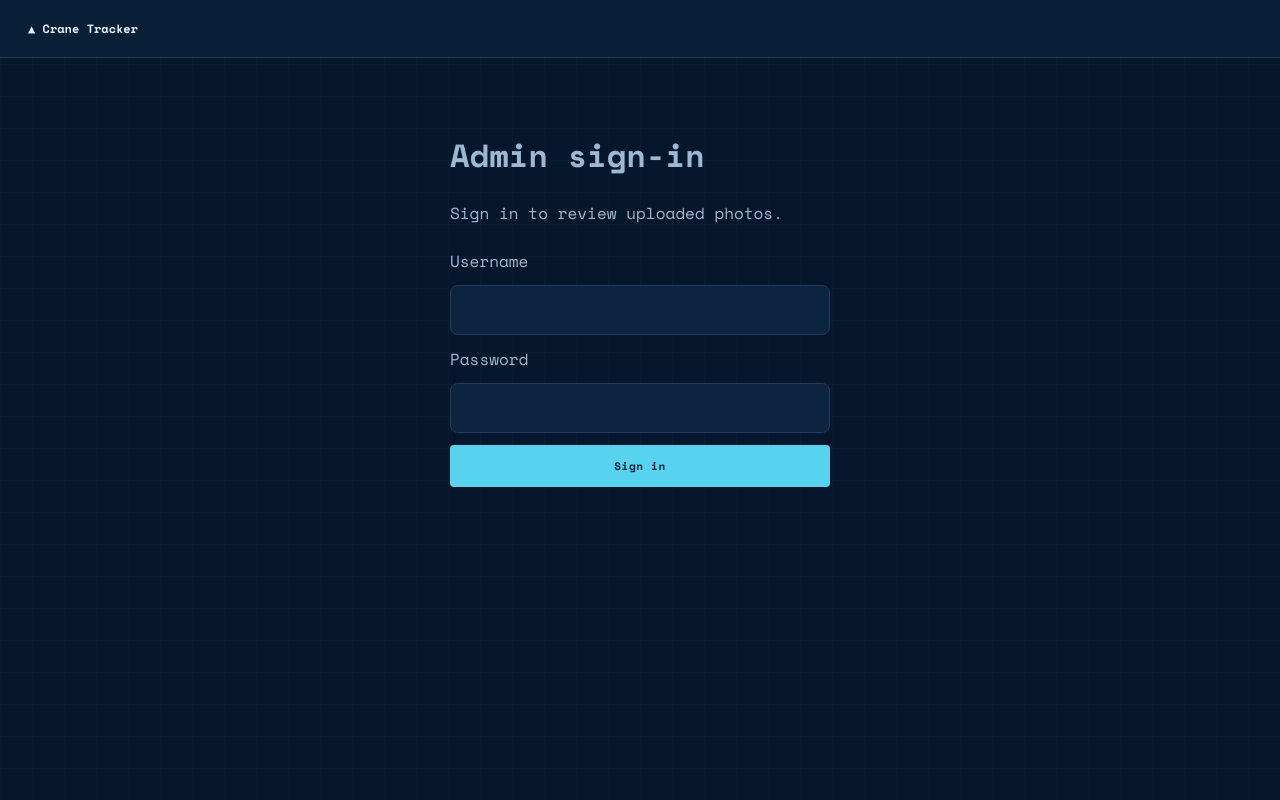
Test: AdminPhotosPage › keeps the card and presents the API error when deletion fails
Type "admin" into the field labelled "Username" at (640, 310), box [450,285,830,335]
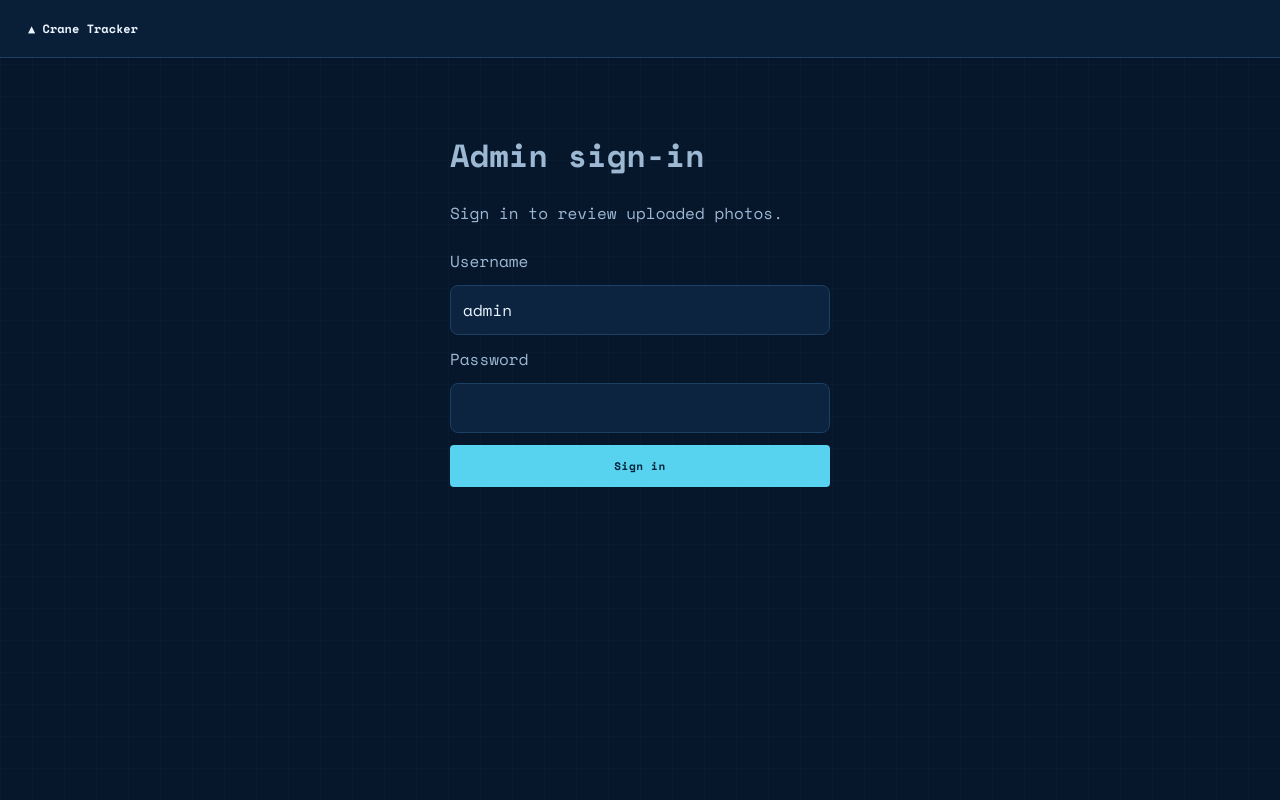
Type "secret" into the password field labelled "Password" at (640, 408), box [450,383,830,433]
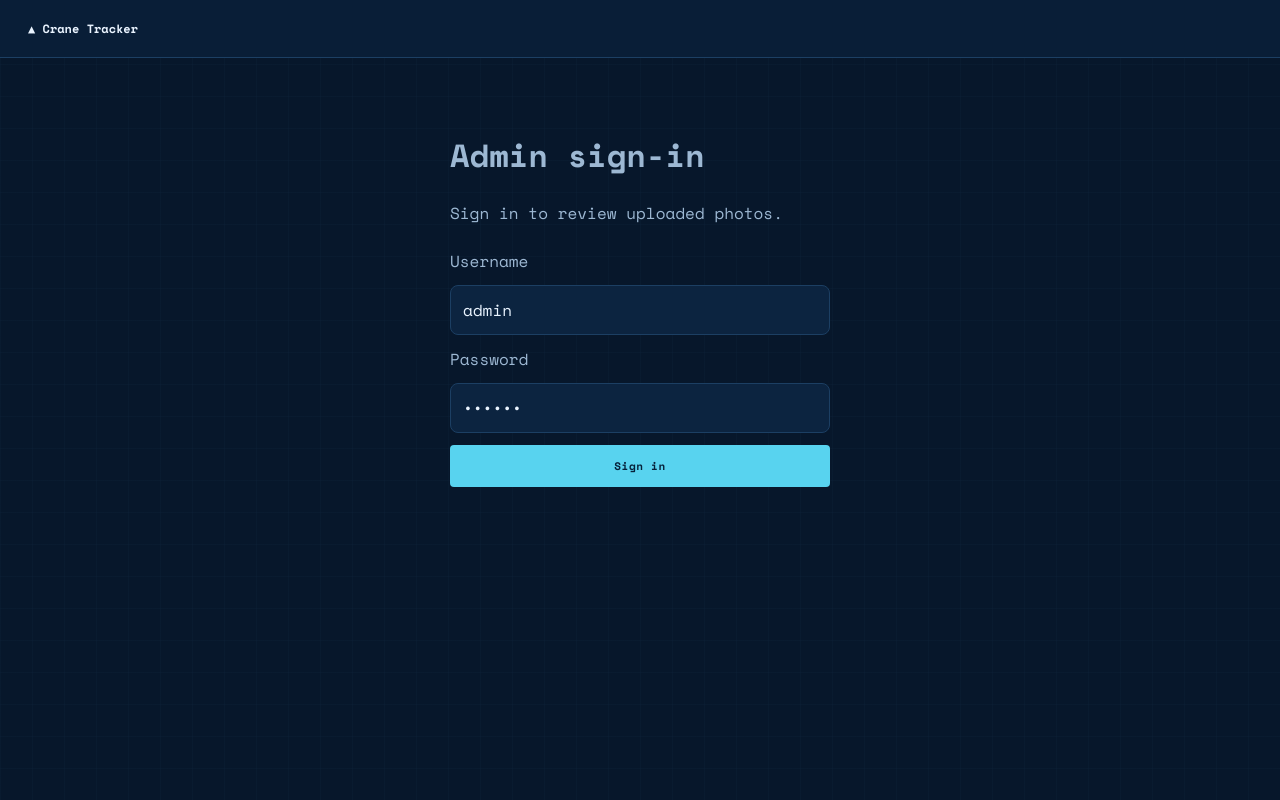
Click the button "Sign in" at (640, 466), box [450,445,830,487]
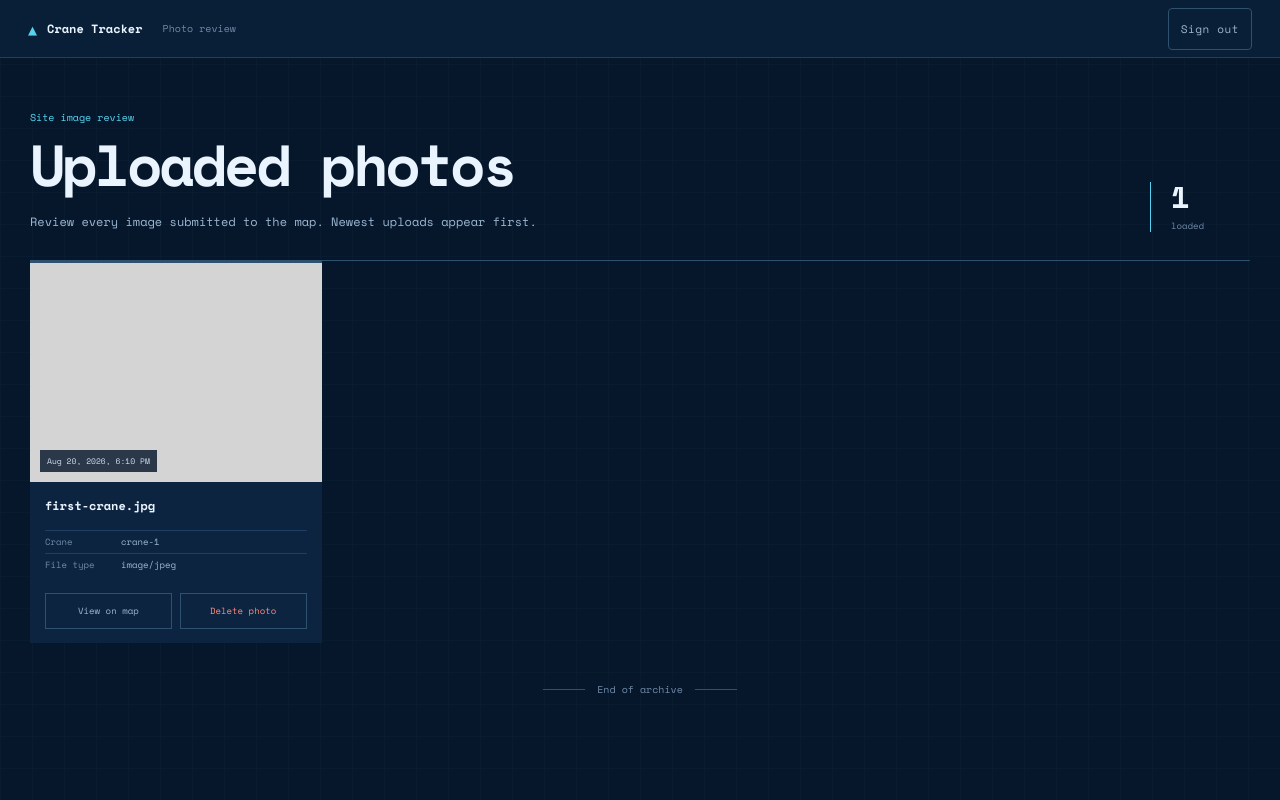
Check: the button "Sign out" is shown, box [1168,8,1252,50]
Check: the heading "first-crane.jpg" is shown, box [45,497,155,514]
Click the button "Delete photo" at (243, 611), box [180,593,307,629]
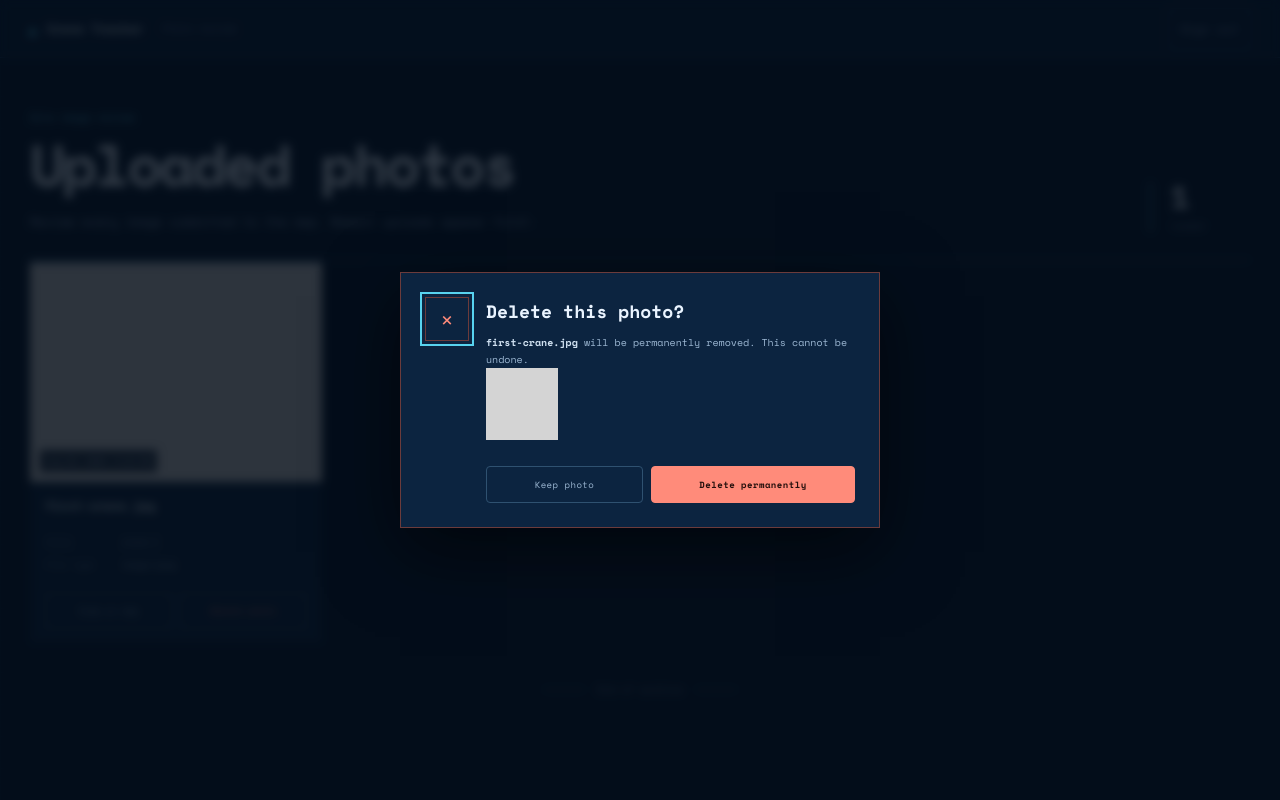
Click the button "Delete permanently" at (753, 484), box [651,466,855,503]
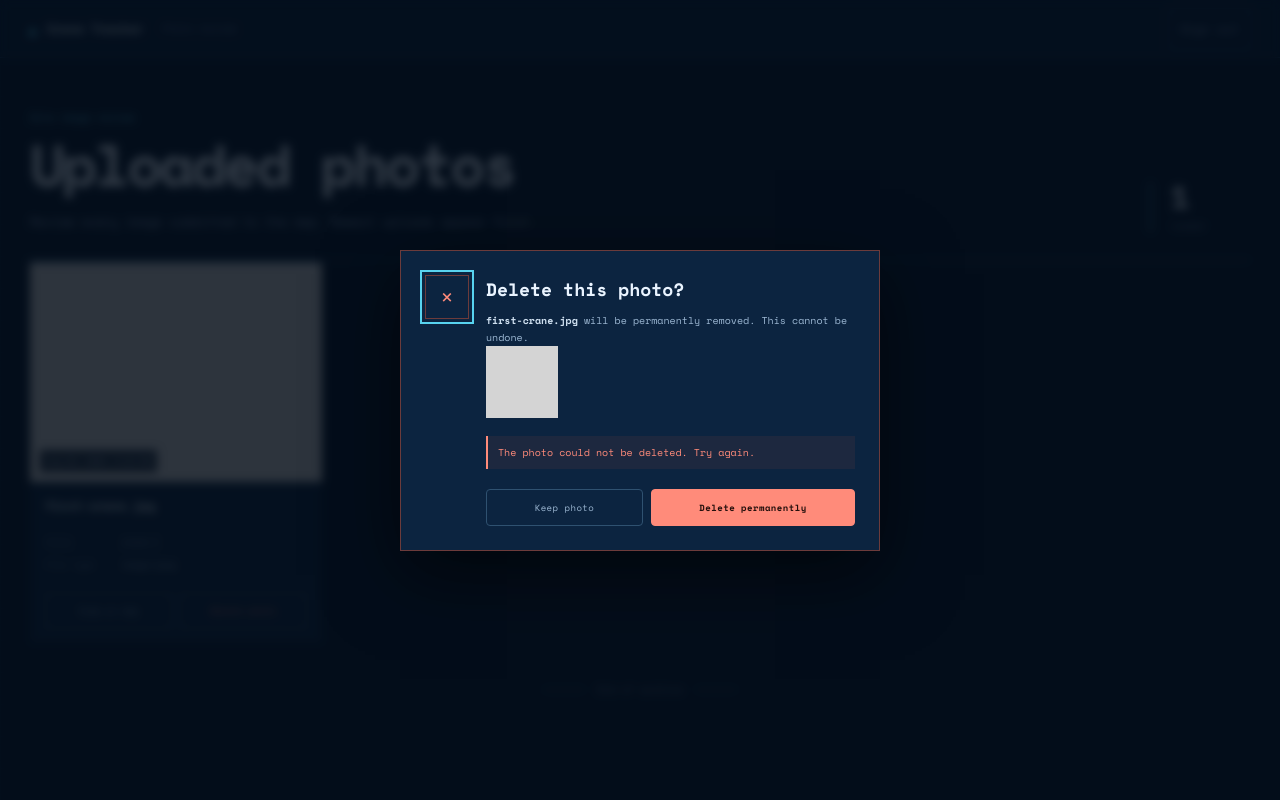
Check: the message shows "The photo could not be deleted", box [498,444,755,460]
